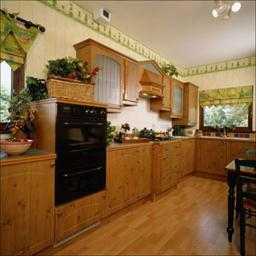Electrodomestico: (56, 97, 105, 206)
Matera: (1, 88, 38, 155)
